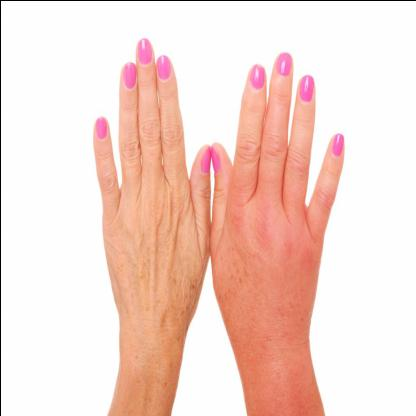Wasp: (226, 186, 314, 350)
